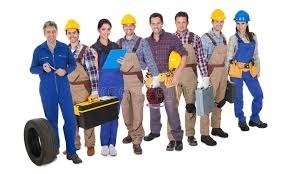helmet: (232, 9, 253, 23), (209, 8, 227, 22), (64, 19, 81, 32), (120, 13, 138, 25)
person with partial safety: (231, 9, 264, 111), (63, 18, 98, 86), (120, 14, 150, 62), (203, 6, 229, 61)
person without safety: (38, 20, 65, 117), (95, 18, 121, 89), (146, 13, 177, 63), (172, 10, 202, 53)
